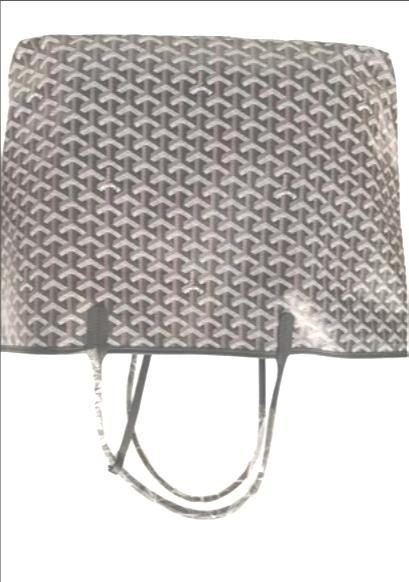GOYARD: (0, 34, 406, 352)
